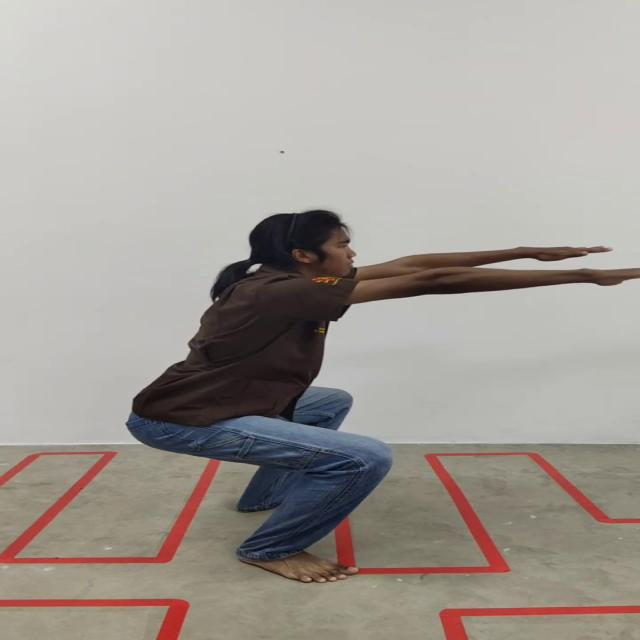squat: (128, 209, 634, 586)
